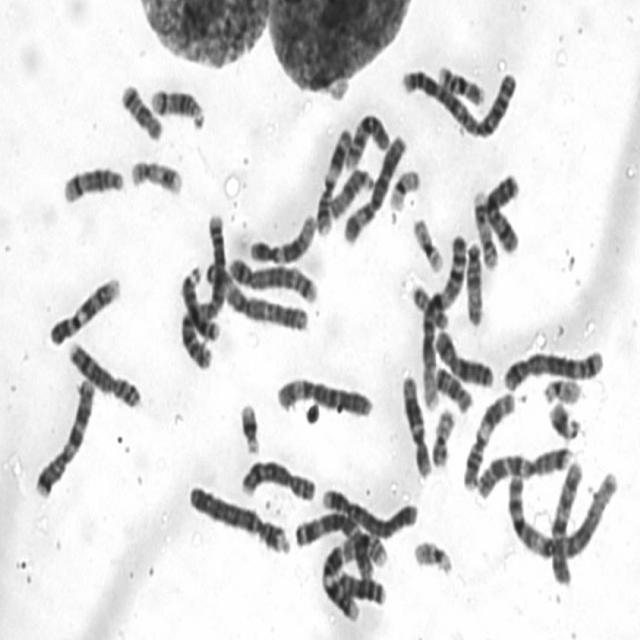A1: (503, 460, 621, 561), (417, 225, 470, 412)
A2: (397, 56, 522, 141), (176, 204, 230, 373)
A3: (201, 257, 311, 333), (290, 504, 376, 580)
B4: (185, 476, 293, 556), (319, 478, 420, 540)
B5: (499, 341, 606, 392), (225, 250, 321, 304)
C10: (546, 451, 585, 588), (341, 104, 392, 170)
C11: (458, 384, 518, 492), (313, 120, 354, 237)
C12: (245, 206, 320, 265), (398, 368, 434, 480)
C6: (340, 126, 410, 247), (272, 368, 375, 420)
C7: (30, 371, 98, 500), (473, 438, 576, 500)
C8: (65, 334, 144, 409), (236, 451, 319, 502)
C9: (46, 267, 123, 348), (318, 538, 361, 623)
D13: (175, 260, 221, 342), (331, 560, 389, 606)
D14: (59, 156, 128, 205), (146, 79, 209, 131)
D15: (325, 160, 375, 222), (462, 233, 487, 328)
E16: (434, 56, 488, 108), (339, 526, 390, 568)
E17: (469, 183, 501, 272), (126, 150, 185, 198)
E18: (117, 75, 165, 142), (431, 357, 475, 414)
F19: (409, 210, 446, 273), (386, 161, 424, 212)
F20: (407, 276, 452, 332), (428, 399, 459, 469)
G21: (544, 394, 583, 442), (235, 394, 263, 456)
G22: (410, 532, 455, 577), (539, 370, 585, 406)
X: (430, 321, 496, 389), (482, 165, 524, 256)
